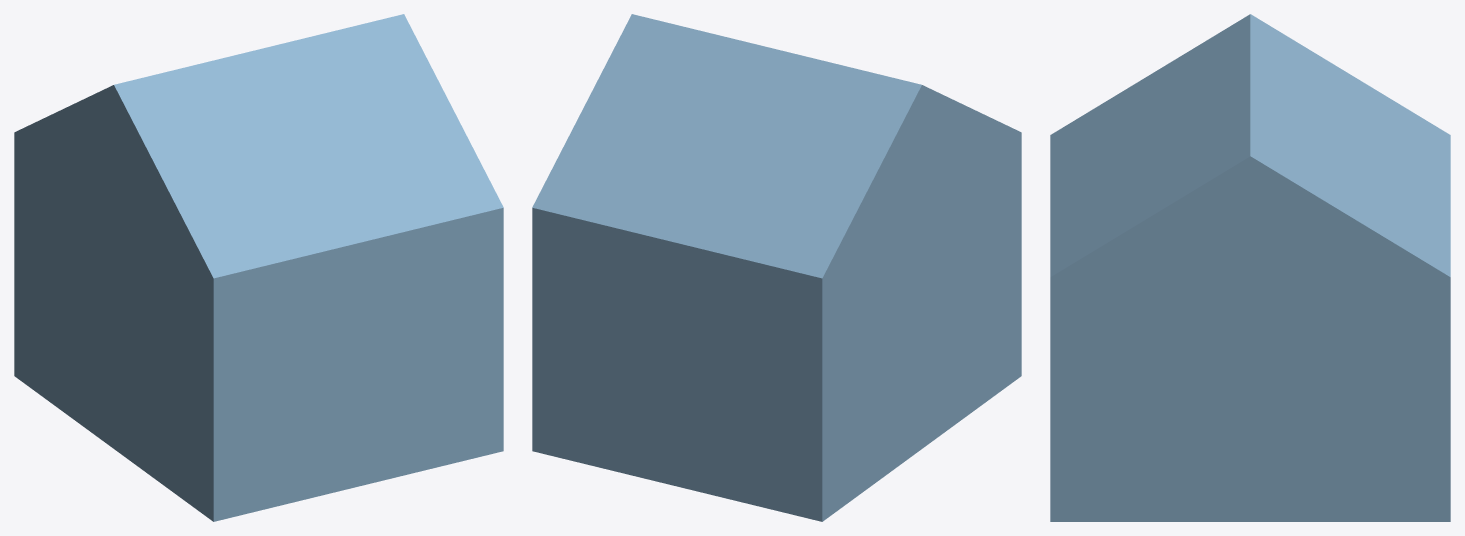
The model's file is House05.fbx.
The picture shows the model from 3 angles, left to right: view 1: azimuth 30°, elevation 25°; view 2: azimuth 150°, elevation 25°; view 3: azimuth 270°, elevation 25°; orthographic projection.
Visible parts, largest first — view 1: Cube; view 2: Cube; view 3: Cube.
Boxes of the visible parts, x1,y1,x2,y2 form: Cube: (14, 14, 503, 521); Cube: (532, 14, 1021, 521); Cube: (1050, 14, 1450, 521).
Bounding box in the file's own units: 2.49 × 2.99 × 2.97.
